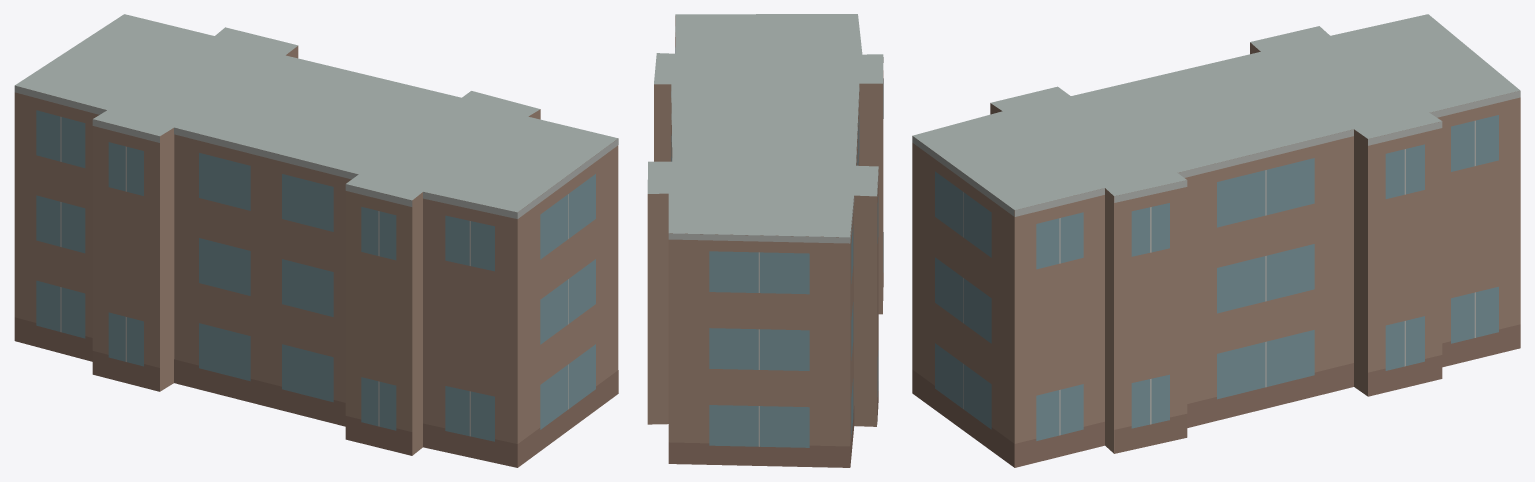
Rendered from survey-upis-32786655.glb.
The picture shows the model from 3 angles, left to right: view 1: azimuth 30°, elevation 25°; view 2: azimuth 150°, elevation 25°; view 3: azimuth 270°, elevation 25°; orthographic projection. The views are drawn at different scales.
Parts seen in each view (by area): view 1: survey-upis-32786655.tmp; view 2: survey-upis-32786655.tmp; view 3: survey-upis-32786655.tmp.
Part boxes in pixels (left/top/right/bottom): survey-upis-32786655.tmp: left=14, top=14, right=618, bottom=467; survey-upis-32786655.tmp: left=647, top=14, right=883, bottom=467; survey-upis-32786655.tmp: left=912, top=14, right=1520, bottom=467.
Size of the model in its own units: 14.95 by 9.15 by 19.59.
